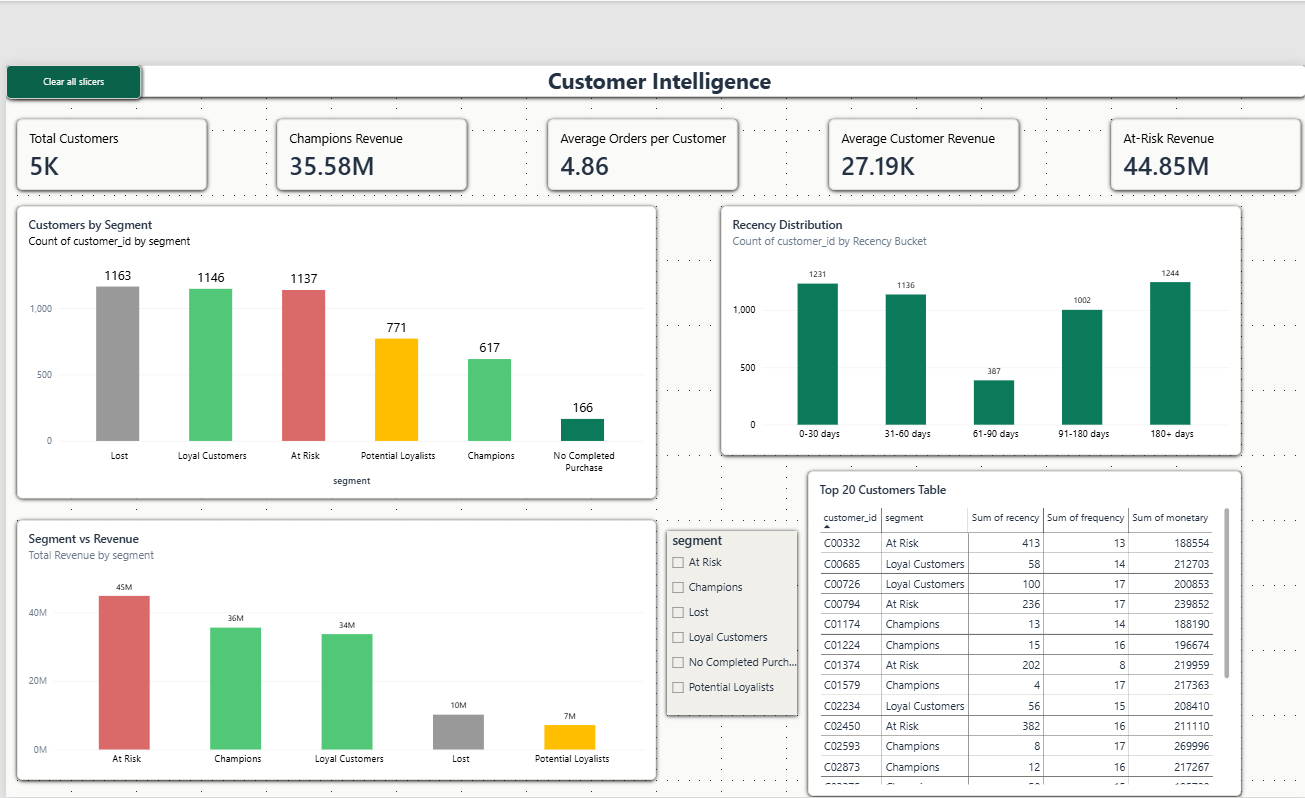

The dashboard page shown, as its layout file describes it:
{"tool":"powerbi","page":{"name":"Customer intelligence","canvas":[1920,1080],"ordinal":1},"visuals":[{"type":"textbox","box":[10.3,0,1909.7,47.3],"z":0},{"type":"cardVisual","fields":{"Data":["Calendar.Total Customers"]},"box":[16,80,280.4,105.1],"z":1000},{"type":"cardVisual","fields":{"Data":["_Measure.Average Customer Revenue"]},"box":[1216,80,280.4,105.1],"z":2000},{"type":"cardVisual","fields":{"Data":["_Measure.Average Orders per Customer"]},"box":[800,80,280.4,105.1],"z":3000},{"type":"cardVisual","fields":{"Data":["_Measure.Champions Revenue"]},"box":[400,80,280.4,105.1],"z":4000},{"type":"cardVisual","fields":{"Data":["_Measure.At-Risk Revenue"]},"box":[1632,80,280.4,105.1],"z":5000},{"type":"clusteredColumnChart","title":"Customers by Segment","fields":{"Category":["customer_360_final.segment"],"Y":["CountNonNull(customer_360_final.customer_id)"]},"box":[16,208,944,432],"z":5001},{"type":"clusteredColumnChart","title":"Recency Distribution","fields":{"Category":["customer_360_final.Recency Bucket"],"Y":["CountNonNull(customer_360_final.customer_id)"]},"box":[1056,208,768,368],"z":5002},{"type":"clusteredColumnChart","title":"Segment vs Revenue","fields":{"Category":["customer_360_final.segment"],"Y":["_Measure.Total Revenue"]},"box":[16,672,944,384],"z":5003},{"type":"tableEx","title":"Top 20 Customers Table","fields":{"Values":["customer_360_final.customer_id","customer_360_final.segment","Sum(customer_360_final.recency)","Sum(customer_360_final.frequency)","Sum(customer_360_final.monetary)"]},"box":[1184,600,640,480],"z":5004},{"type":"slicer","fields":{"Values":["customer_360_final.segment"]},"box":[976,688,192,272],"z":5006},{"type":"actionButton","box":[0,0,200,50],"z":5007}]}

Visuals, with their boxes on the page's 1920x1080 design canvas (x1, y1, x2, y2). These are canvas units, not pixel positions in the 1305x798 screenshot, which may show the page scaled, cropped or inside an application window:
textbox: (left=10, top=0, right=1920, bottom=47)
cardVisual - Calendar.Total Customers: (left=16, top=80, right=296, bottom=185)
cardVisual - _Measure.Average Customer Revenue: (left=1216, top=80, right=1496, bottom=185)
cardVisual - _Measure.Average Orders per Customer: (left=800, top=80, right=1080, bottom=185)
cardVisual - _Measure.Champions Revenue: (left=400, top=80, right=680, bottom=185)
cardVisual - _Measure.At-Risk Revenue: (left=1632, top=80, right=1912, bottom=185)
"Customers by Segment" clusteredColumnChart: (left=16, top=208, right=960, bottom=640)
"Recency Distribution" clusteredColumnChart: (left=1056, top=208, right=1824, bottom=576)
"Segment vs Revenue" clusteredColumnChart: (left=16, top=672, right=960, bottom=1056)
"Top 20 Customers Table" tableEx: (left=1184, top=600, right=1824, bottom=1080)
slicer - customer_360_final.segment: (left=976, top=688, right=1168, bottom=960)
actionButton: (left=0, top=0, right=200, bottom=50)
